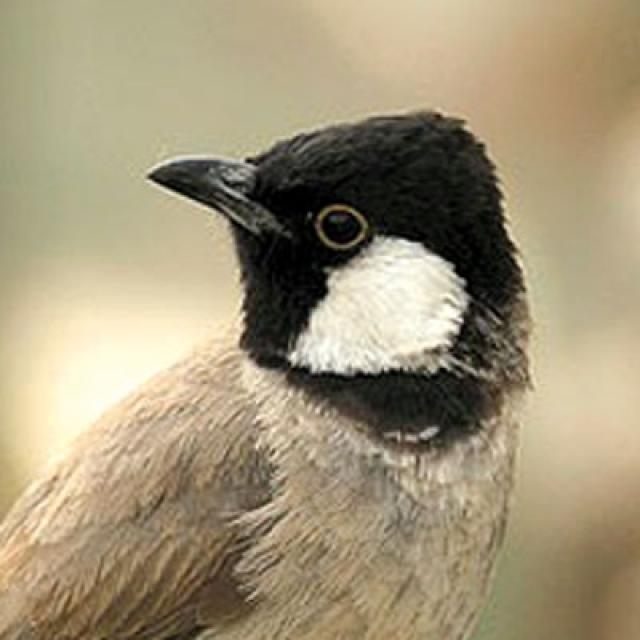bird: (0, 90, 535, 640)
